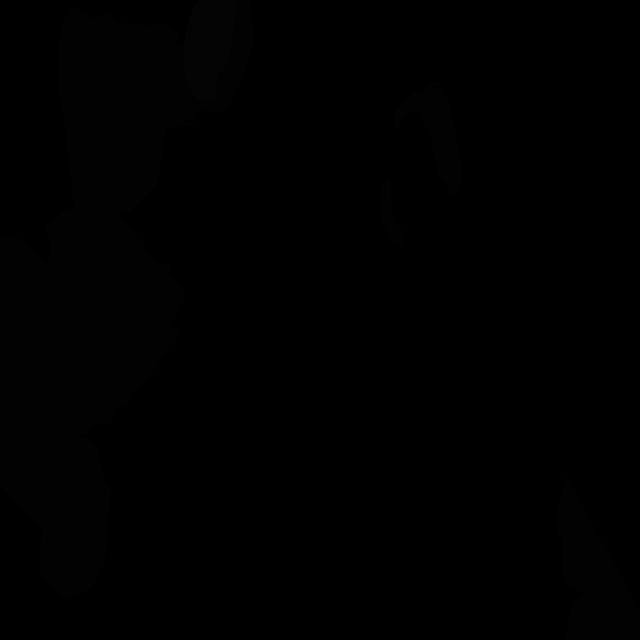cardboard: (0, 208, 184, 600), (56, 6, 197, 132), (556, 473, 640, 640), (67, 122, 167, 234), (393, 81, 463, 198), (195, 0, 255, 112), (379, 179, 405, 247)
soft_plastic: (182, 0, 237, 102)
